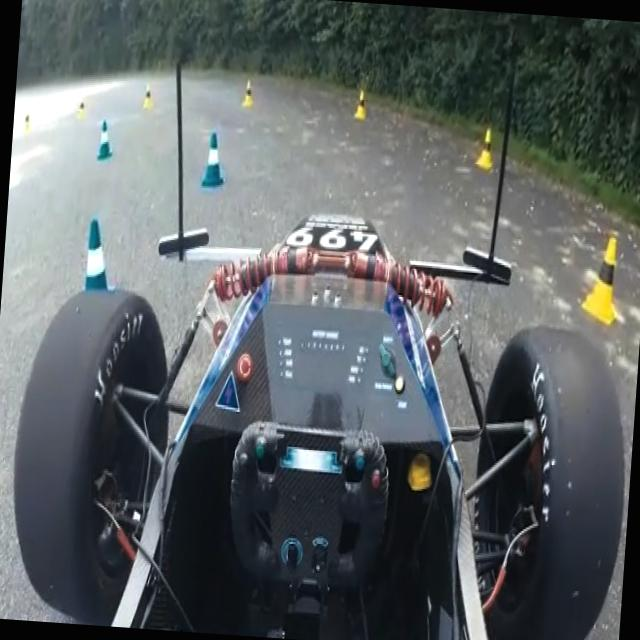blue_cone: (64, 217, 122, 325), (198, 133, 226, 190), (96, 121, 112, 162)
yellow_cone: (578, 232, 622, 331), (475, 128, 495, 170), (352, 82, 369, 120), (238, 76, 255, 110), (140, 82, 154, 112), (21, 108, 31, 136), (76, 96, 85, 120)
